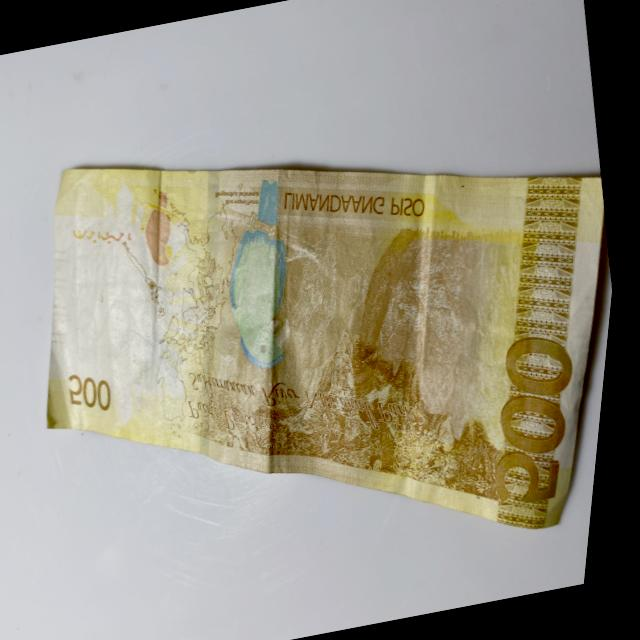500_big_parrot: (209, 180, 324, 378)
500_parrot_watermark: (134, 190, 194, 272)
value_watermark: (66, 266, 94, 310)
